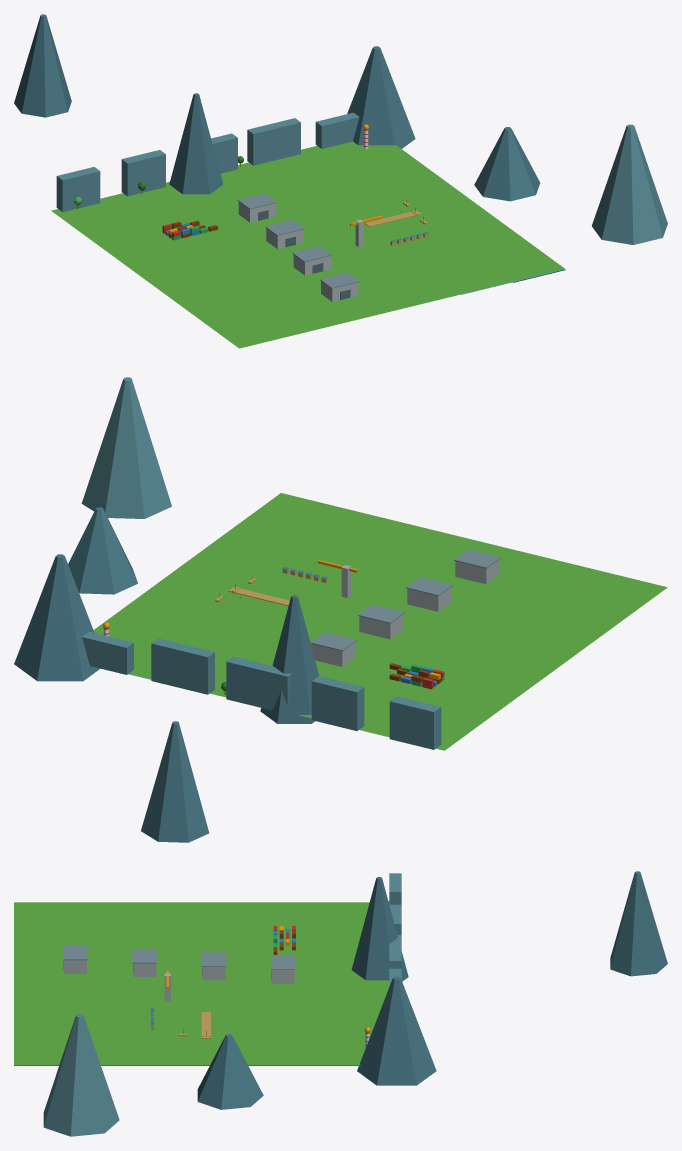
The model's file is sector_r0_c3.glb.
3 renders of one model, top to bottom at view 1: azimuth 30°, elevation 25°; view 2: azimuth 150°, elevation 25°; view 3: azimuth 270°, elevation 25°, orthographic. The views are drawn at different scales.
Parts seen in each view (by area): view 1: GROUND_r0_c3, MOUNTAIN_3, MOUNTAIN_5, MOUNTAIN_7, MOUNTAIN_6, MOUNTAIN_4, WALL_NorthCliff_18, WALL_NorthCliff_16, WALL_NorthCliff_15, WALL_NorthCliff_19, WALL_NorthCliff_17; view 2: GROUND_r0_c3, MOUNTAIN_3, MOUNTAIN_5, MOUNTAIN_7, MOUNTAIN_6, MOUNTAIN_4, WALL_NorthCliff_18, WALL_NorthCliff_17, WALL_NorthCliff_16, WALL_NorthCliff_15, WALL_NorthCliff_19, BUILDING_Warehouse_0_Main (+3 smaller); view 3: GROUND_r0_c3, MOUNTAIN_3, MOUNTAIN_5, MOUNTAIN_7, MOUNTAIN_4, MOUNTAIN_6, WALL_NorthCliff_15.
Boxes of the visible parts, <box> form: GROUND_r0_c3: <box>51,141,564,348</box>; MOUNTAIN_3: <box>592,124,667,244</box>; MOUNTAIN_5: <box>347,46,415,148</box>; MOUNTAIN_7: <box>14,14,71,117</box>; MOUNTAIN_6: <box>169,93,223,194</box>; MOUNTAIN_4: <box>474,127,540,201</box>; WALL_NorthCliff_18: <box>247,118,300,165</box>; WALL_NorthCliff_16: <box>121,150,165,196</box>; WALL_NorthCliff_15: <box>56,167,100,211</box>; WALL_NorthCliff_19: <box>315,112,359,148</box>; WALL_NorthCliff_17: <box>211,133,237,173</box>; GROUND_r0_c3: <box>93,493,667,750</box>; MOUNTAIN_3: <box>81,377,171,518</box>; MOUNTAIN_5: <box>14,554,99,681</box>; MOUNTAIN_7: <box>141,721,209,842</box>; MOUNTAIN_6: <box>260,595,319,723</box>; MOUNTAIN_4: <box>68,507,137,594</box>; WALL_NorthCliff_18: <box>151,638,214,694</box>; WALL_NorthCliff_17: <box>226,656,291,710</box>; WALL_NorthCliff_16: <box>311,676,364,730</box>; WALL_NorthCliff_15: <box>389,696,441,749</box>; WALL_NorthCliff_19: <box>82,632,133,674</box>; BUILDING_Warehouse_0_Main: <box>455,559,499,584</box>; GROUND_r0_c3: <box>14,902,389,1064</box>; MOUNTAIN_3: <box>43,1014,119,1136</box>; MOUNTAIN_5: <box>357,976,436,1085</box>; MOUNTAIN_7: <box>610,871,667,976</box>; MOUNTAIN_4: <box>197,1034,263,1109</box>; MOUNTAIN_6: <box>351,877,408,981</box>; WALL_NorthCliff_15: <box>389,873,401,904</box>.
Bounding box in the file's own units: 350 × 75.11 × 425.
